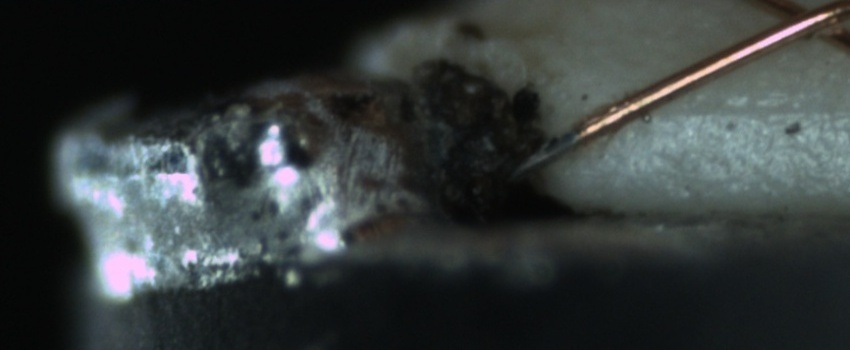CL: (756, 0, 847, 48)
DL: (667, 79, 849, 142)
TS: (496, 126, 580, 186)
